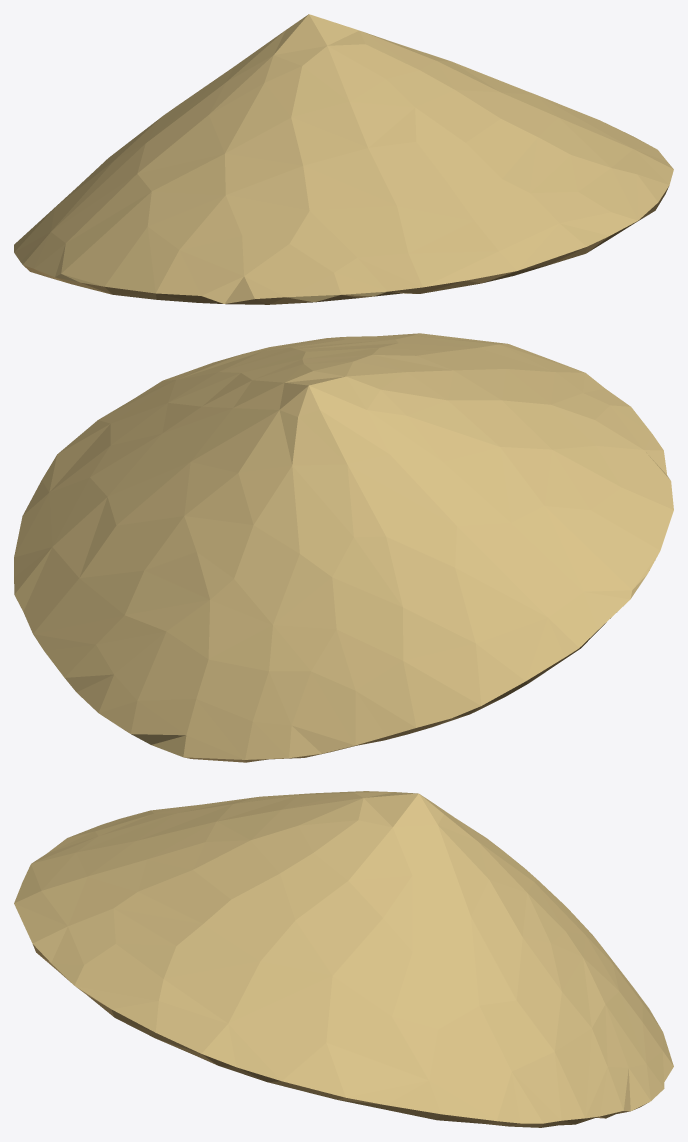
Rendered from non_la.glb.
The picture shows the model from 3 angles, top to bottom: view 1: azimuth 30°, elevation 25°; view 2: azimuth 150°, elevation 25°; view 3: azimuth 270°, elevation 25°; orthographic projection.
Parts seen in each view (by area): view 1: non_la; view 2: non_la; view 3: non_la.
Part boxes in pixels (x1,y1,x2,y2): non_la: [14, 14, 673, 304]; non_la: [14, 333, 673, 762]; non_la: [14, 791, 673, 1127].
Bounding box in the file's own units: 0.6 × 0.28 × 0.6.
